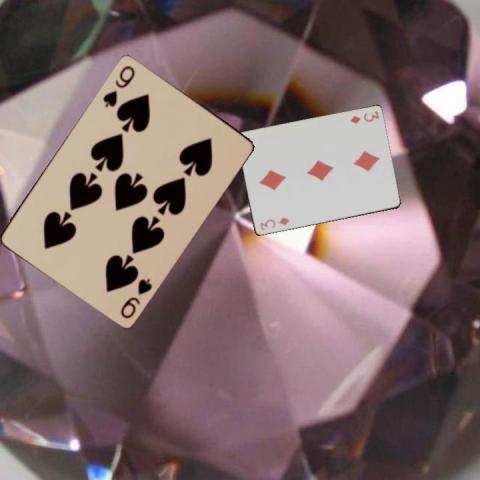3d: (256, 215, 290, 232), (347, 108, 380, 125)
9s: (99, 62, 137, 108), (118, 274, 154, 320)
